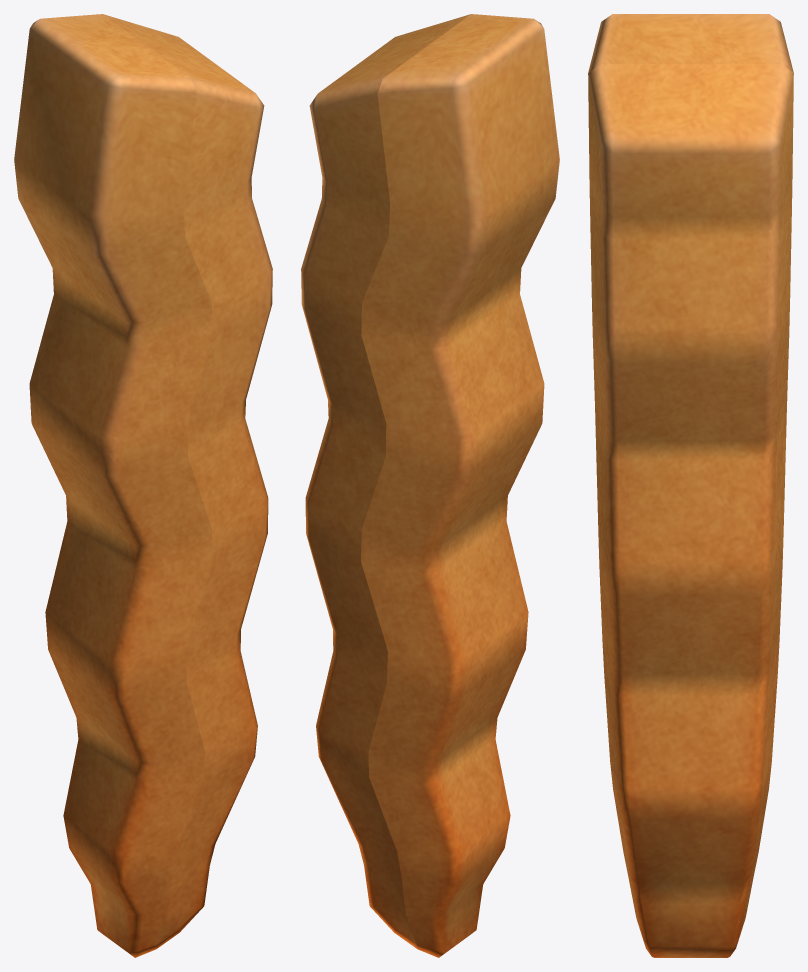
File: SerratedFrenchFri_1.fbx
3 views of the same model, side by side, from view 1: azimuth 30°, elevation 25°; view 2: azimuth 150°, elevation 25°; view 3: azimuth 270°, elevation 25° (orthographic).
Visible parts, largest first — view 1: SerratedFrenchFri_1; view 2: SerratedFrenchFri_1; view 3: SerratedFrenchFri_1.
Boxes of the visible parts, x1=… form: SerratedFrenchFri_1: x1=14, y1=14, x2=272, y2=957; SerratedFrenchFri_1: x1=301, y1=14, x2=559, y2=957; SerratedFrenchFri_1: x1=588, y1=14, x2=793, y2=957.
Size of the model in its own units: 0.0116 by 0.0548 by 0.0111.
Materials: 1 (1 with a texture image).
